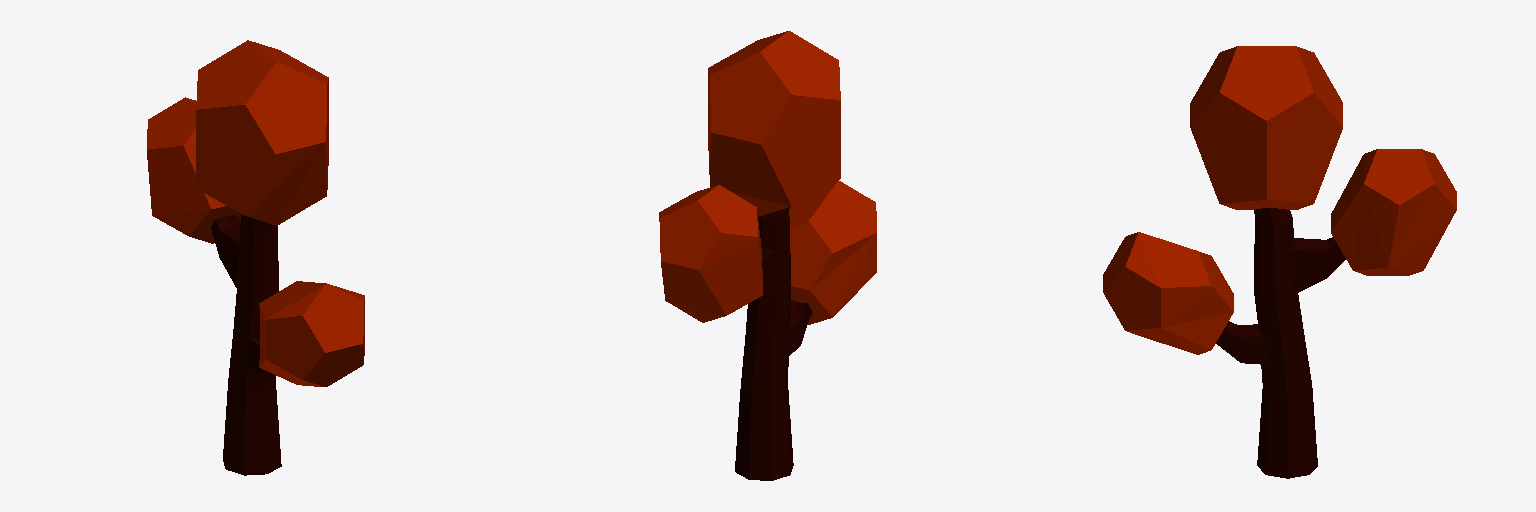
Rendered from arbol_3.obj.
3 renders of one model, left to right at view 1: azimuth 30°, elevation 25°; view 2: azimuth 150°, elevation 25°; view 3: azimuth 270°, elevation 25°, orthographic.
Visible parts, largest first — view 1: arbol_3; view 2: arbol_3; view 3: arbol_3.
Part boxes in pixels (bbox=[...]): arbol_3: bbox=[147, 40, 364, 475]; arbol_3: bbox=[659, 31, 876, 480]; arbol_3: bbox=[1103, 46, 1456, 478].
Bounding box in the file's own units: 1.87 × 5.65 × 4.31.